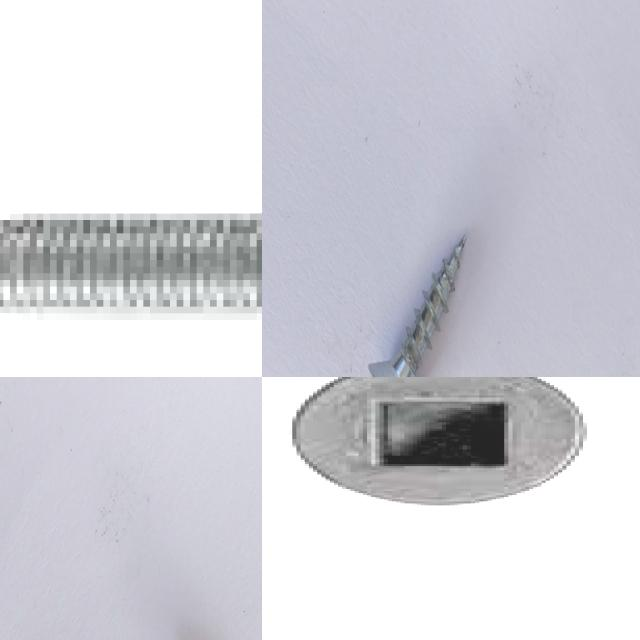Screw: (284, 377, 593, 517), (0, 213, 262, 307), (368, 235, 465, 377)
